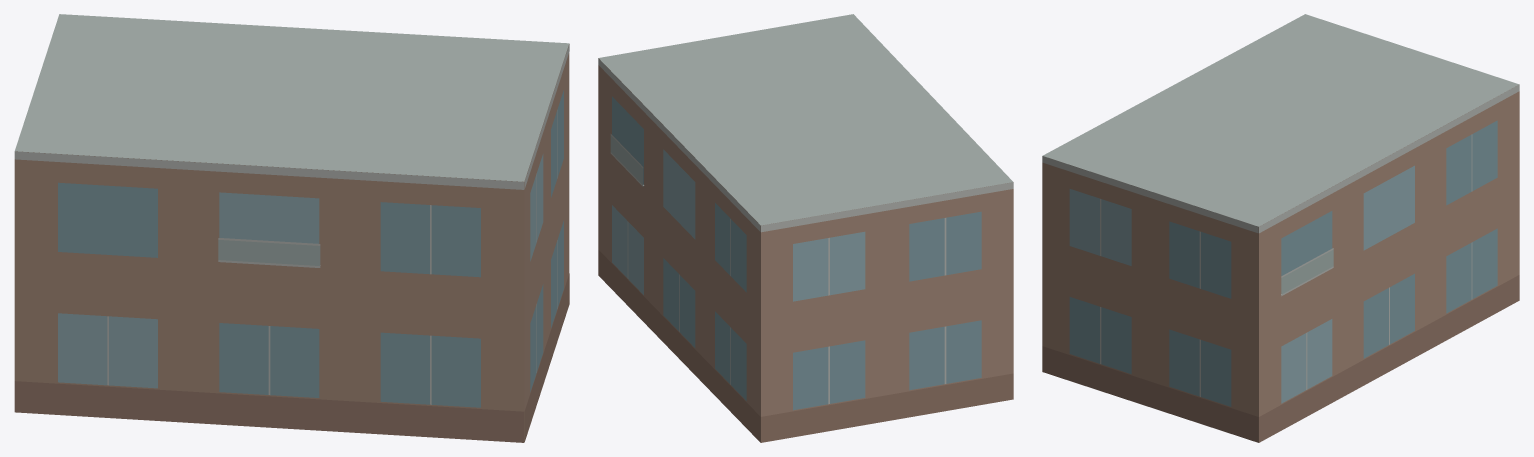
Rendered from survey-upis-32929780.glb.
The picture shows the model from 3 angles, left to right: view 1: azimuth 30°, elevation 25°; view 2: azimuth 150°, elevation 25°; view 3: azimuth 270°, elevation 25°; orthographic projection. The views are drawn at different scales.
Parts seen in each view (by area): view 1: survey-upis-32929780.tmp; view 2: survey-upis-32929780.tmp; view 3: survey-upis-32929780.tmp.
Part boxes in pixels (x1,y1,x2,y2): survey-upis-32929780.tmp: [14, 14, 569, 442]; survey-upis-32929780.tmp: [598, 14, 1013, 442]; survey-upis-32929780.tmp: [1042, 14, 1519, 442].
Size of the model in its own units: 16.48 by 7.8 by 15.62.
